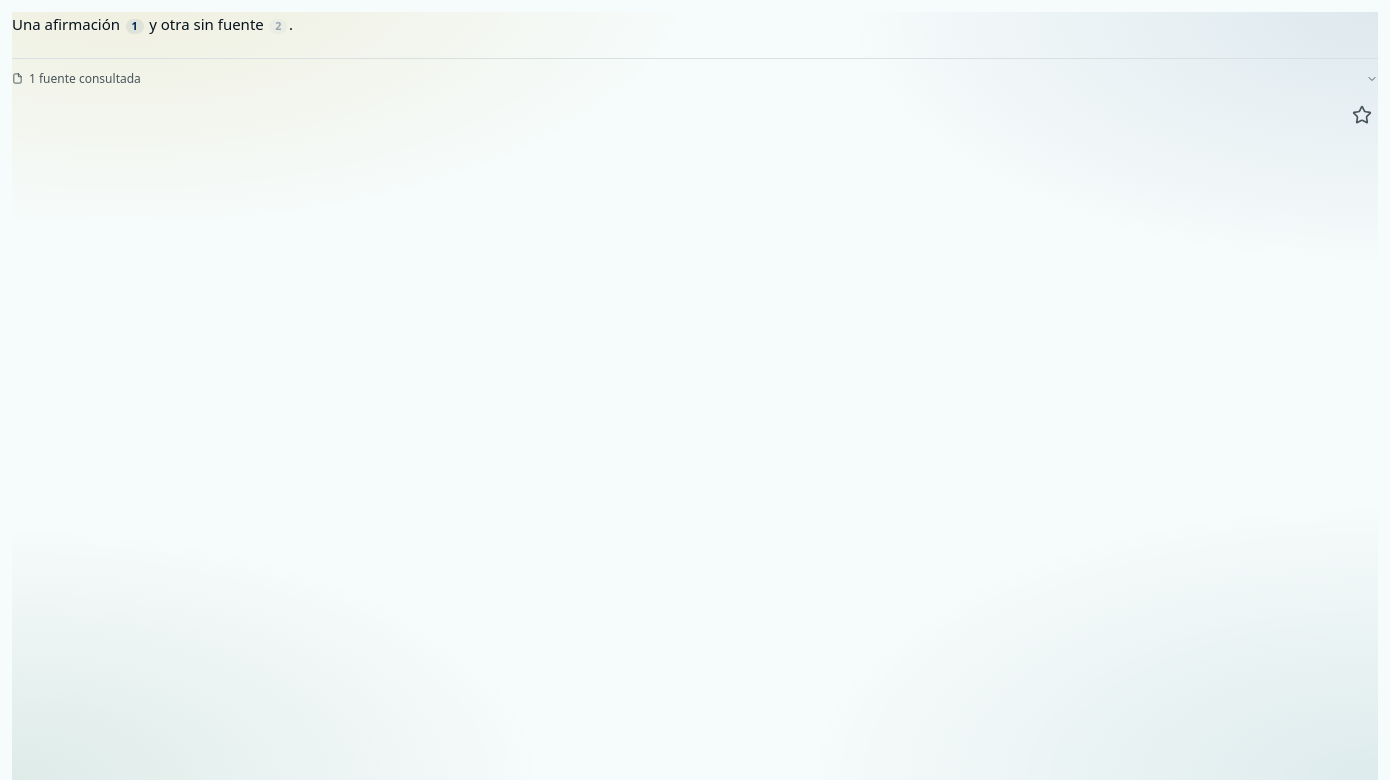
Test: AssistantBubble — badges de cita › abrir y cerrar el popover no desmonta el badge (preserva su identidad de nodo)
Click the button named "Ver fuente 1".
click(135, 26)  # box [126, 19, 144, 34]
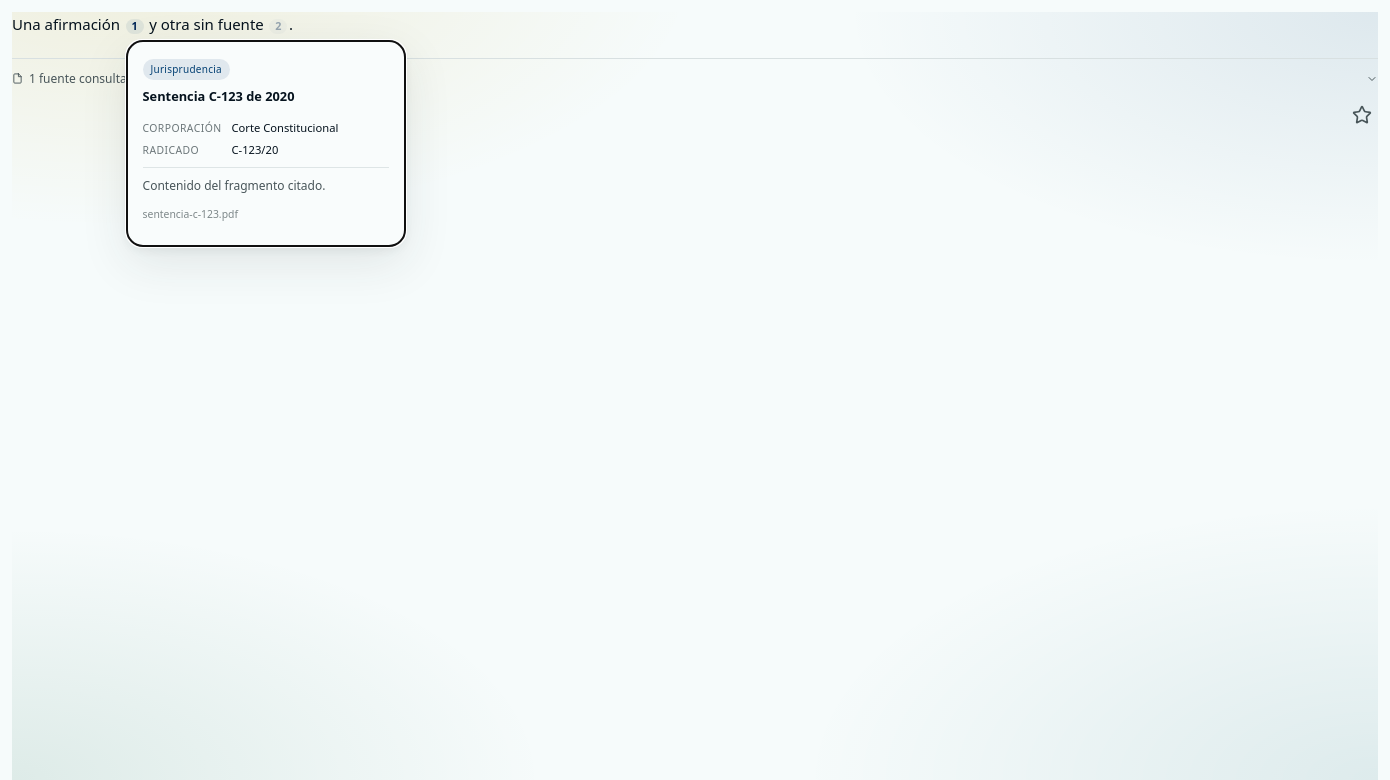
Click the button named "Ver fuente 1".
click(135, 26)  # box [126, 19, 144, 34]
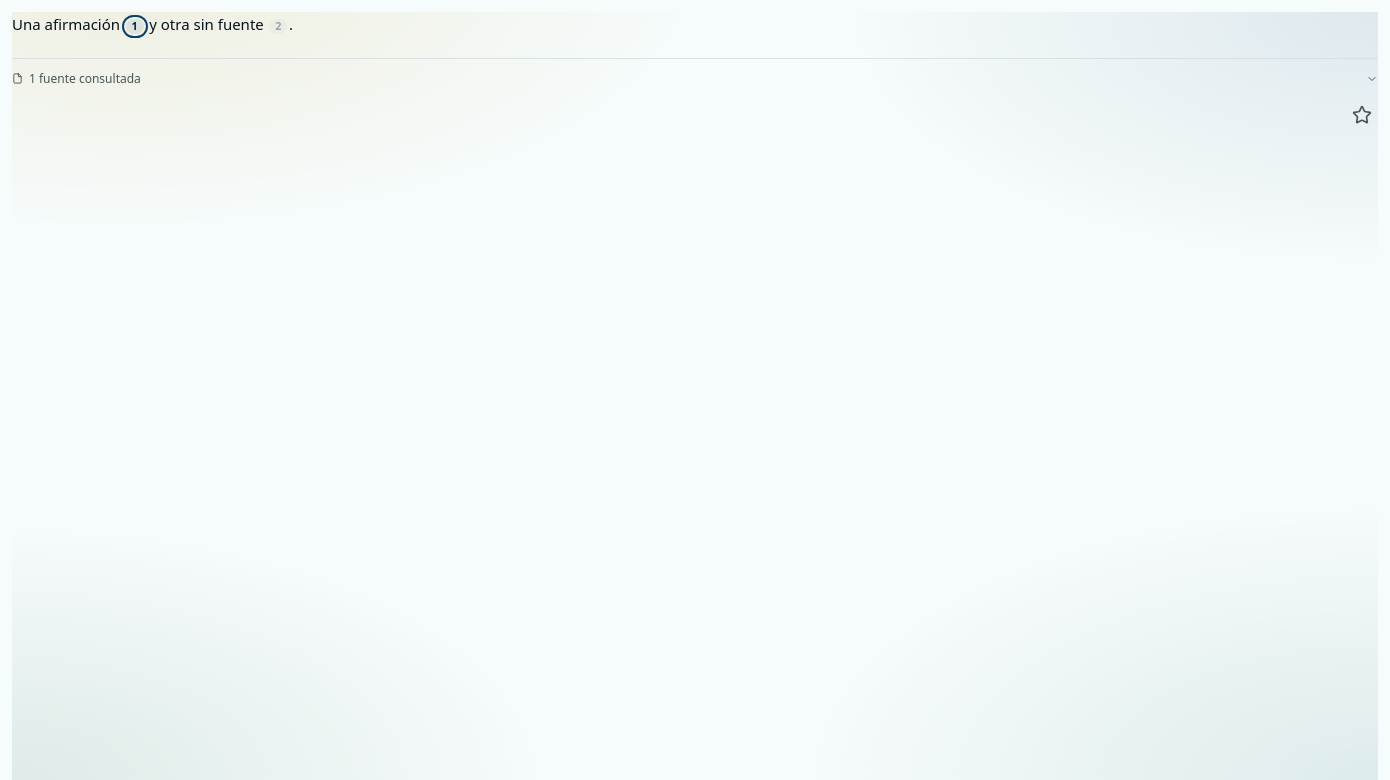
Result: the button named "Ver fuente 1" is collapsed at [126, 19, 144, 34]
